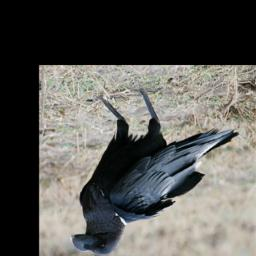Crow: (68, 87, 239, 255)
